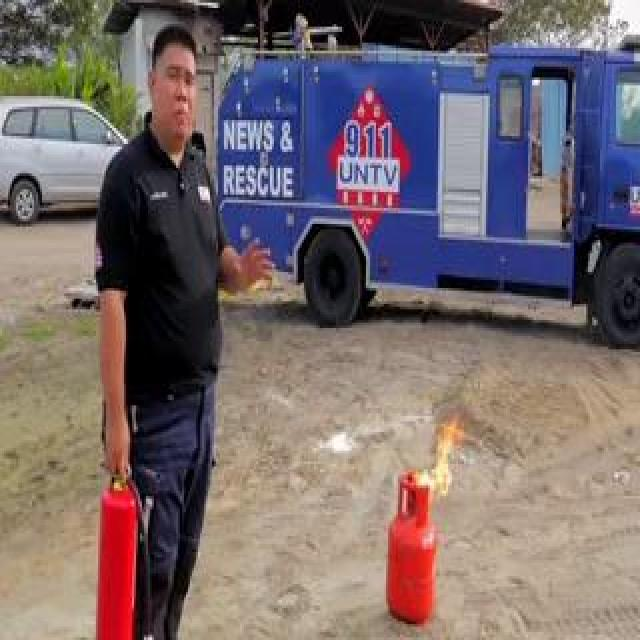Fire: (413, 402, 465, 506)
